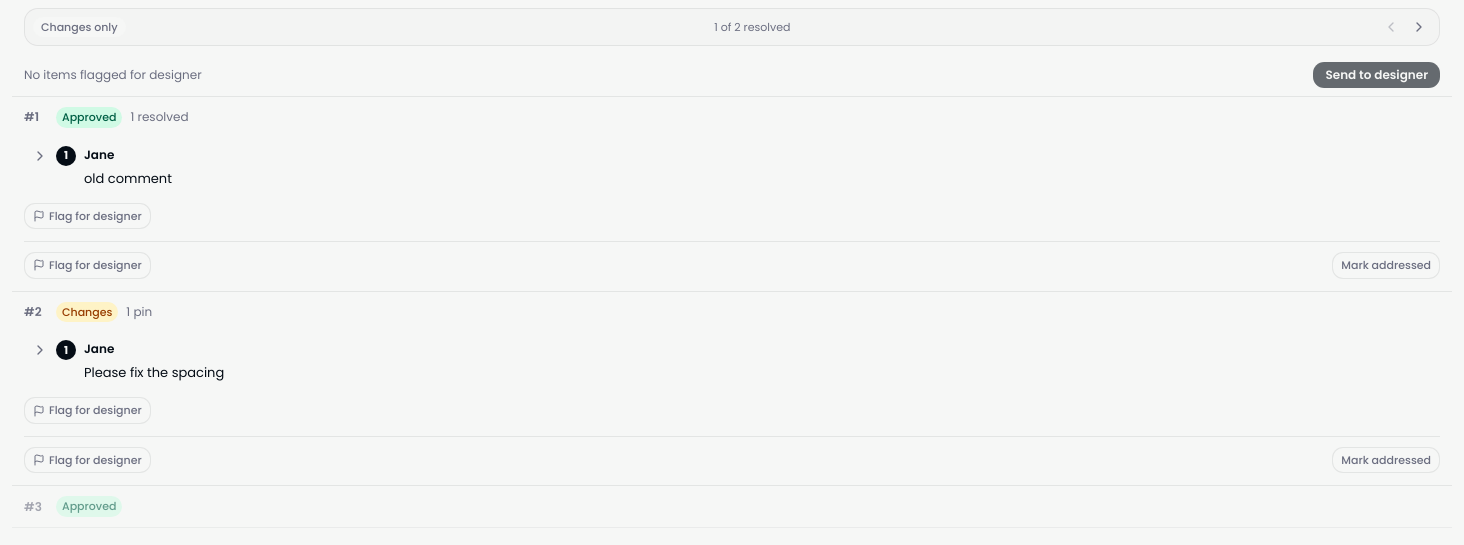
it: ReviewFeedbackRail — Changes only filter › keeps a resolved-feedback post visible under the filter and hides only no-feedback posts
Expected: the button with test id "rail-row-post-approved-resolved" is shown, [12,97,1452,138]
Expected: the button with test id "rail-row-post-changes-open" is shown, [12,292,1452,332]
Click the button with test id "changes-navigator-filter" at coordinates (79, 27), box [33,17,126,37]
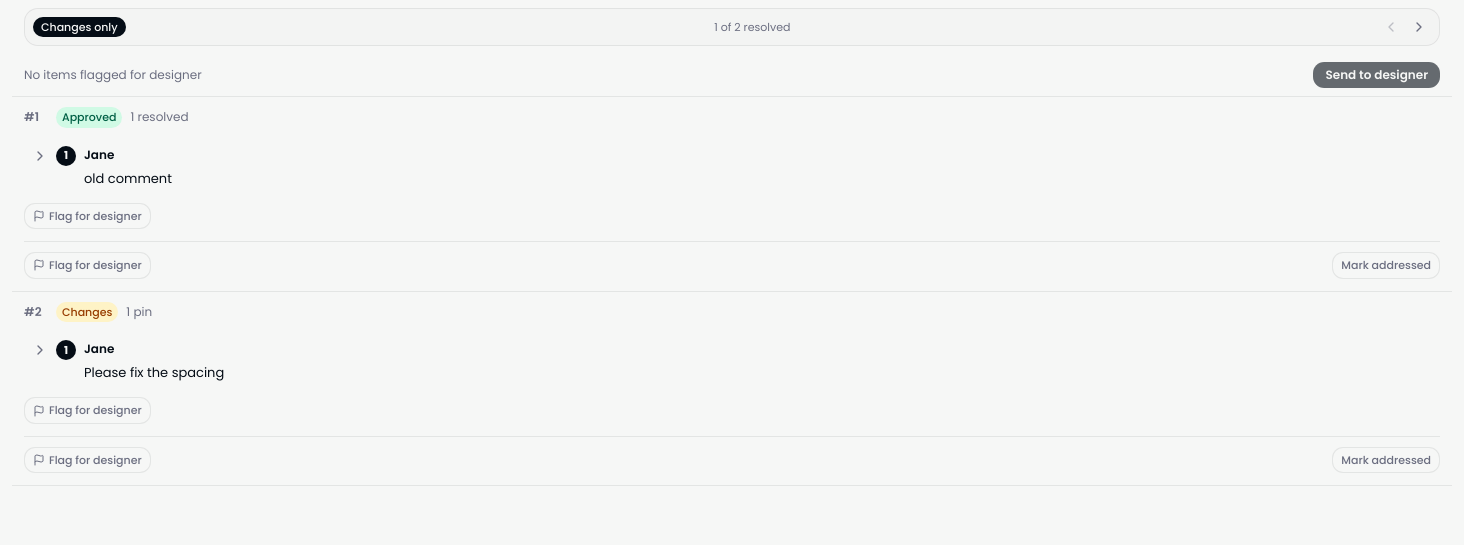
Expected: the button with test id "rail-row-post-approved-resolved" is shown, [12,97,1452,138]
Expected: the button with test id "rail-row-post-approved-clean" is gone
